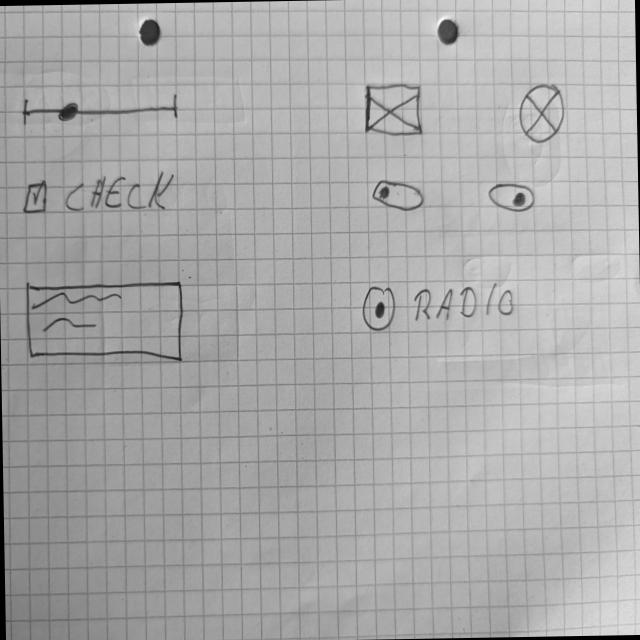checkbox: (19, 169, 179, 219)
image: (363, 81, 427, 139), (517, 82, 567, 146)
radio: (361, 278, 516, 337)
slider: (17, 90, 186, 132)
textarea: (25, 279, 187, 366)
toggle: (371, 178, 427, 214), (489, 182, 537, 214)
